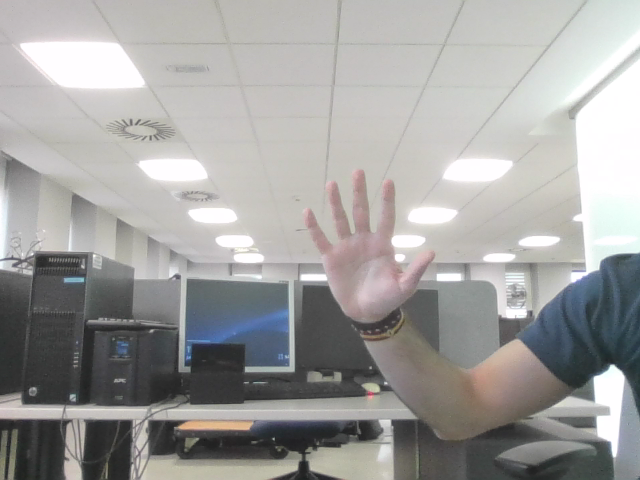Mano Abierta: (314, 181, 423, 299)
